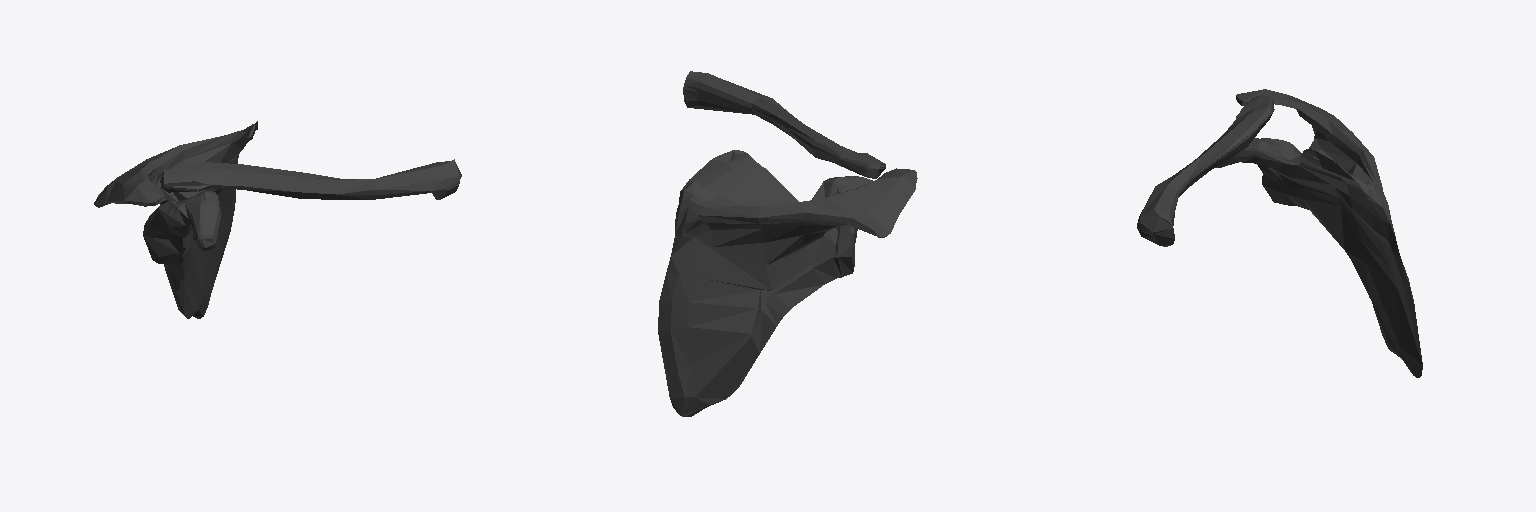
The model's file is R_Shoulder.obj.
3 renders of one model, left to right at view 1: azimuth 30°, elevation 25°; view 2: azimuth 150°, elevation 25°; view 3: azimuth 270°, elevation 25°, orthographic.
Size of the model in its own units: 18.81 by 14.5 by 16.38.